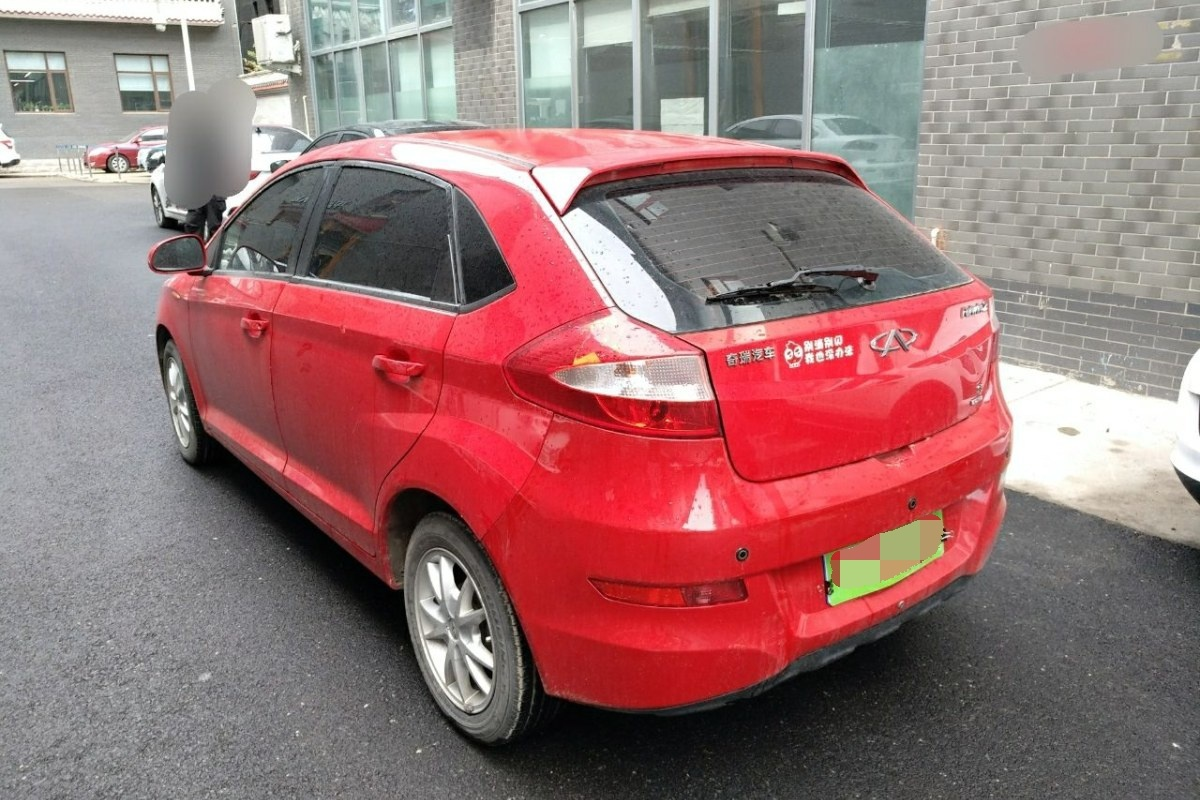family sedan: (138, 125, 1045, 738)
